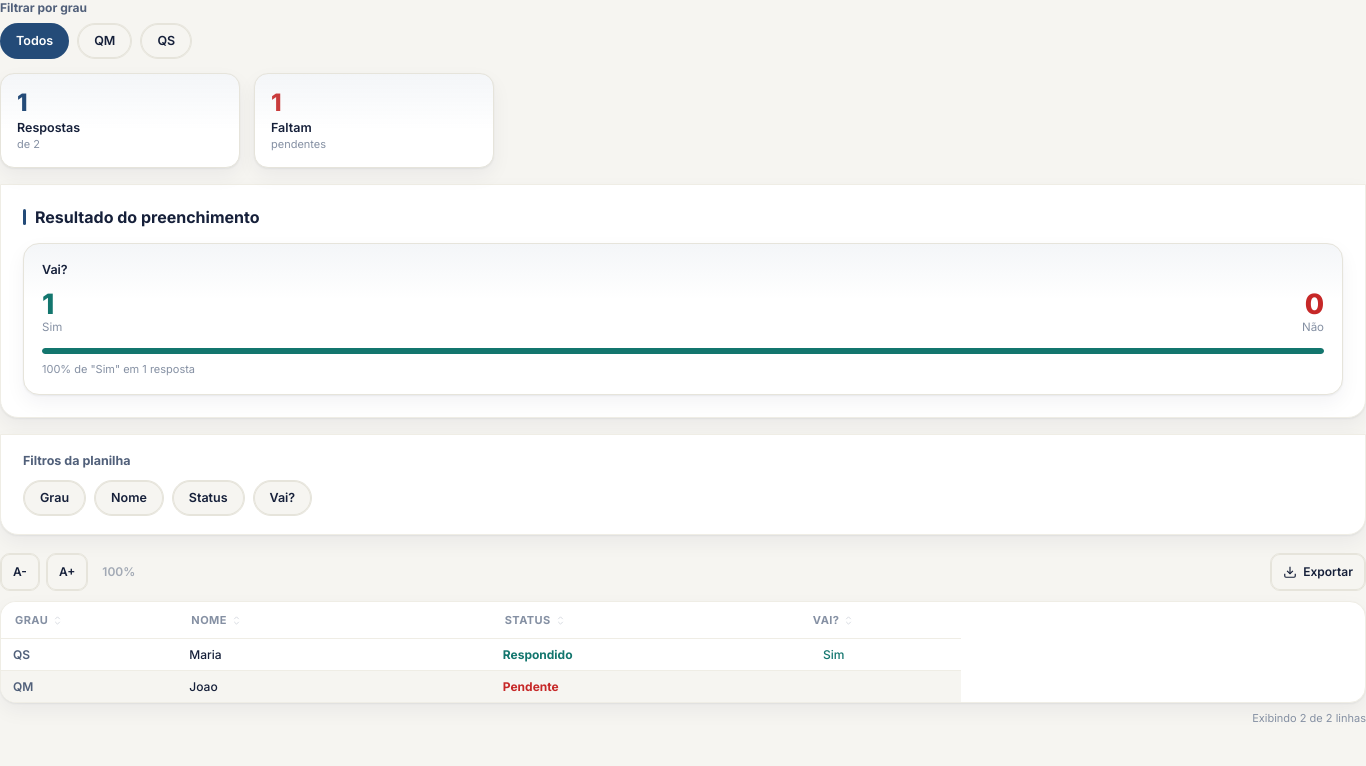
Test: ResultsScreen › filtra usando o cabecalho de filtros da planilha
Click the button "Nome" at (129, 498), box [94,480,164,516]
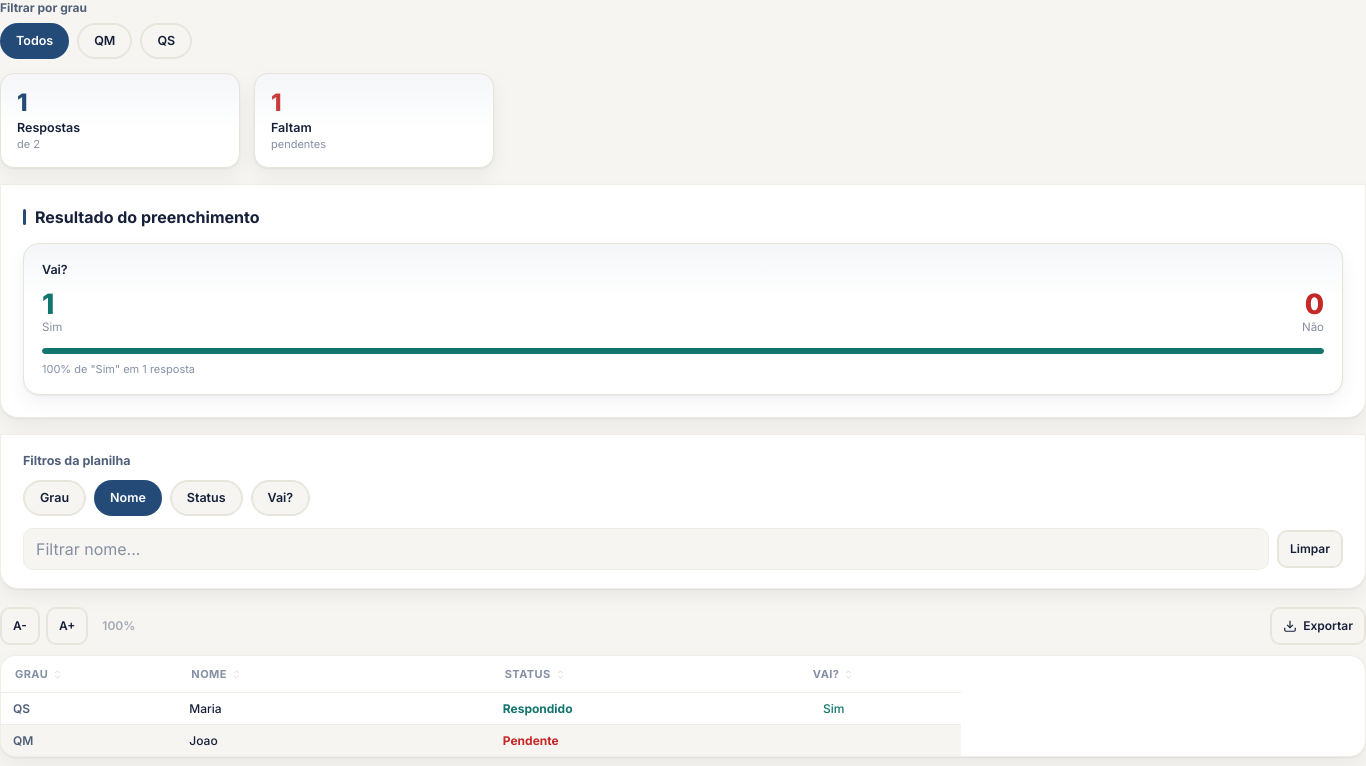
Type "Joao" into the field with placeholder "Filtrar nome..." at (646, 549), box [23,528,1269,570]
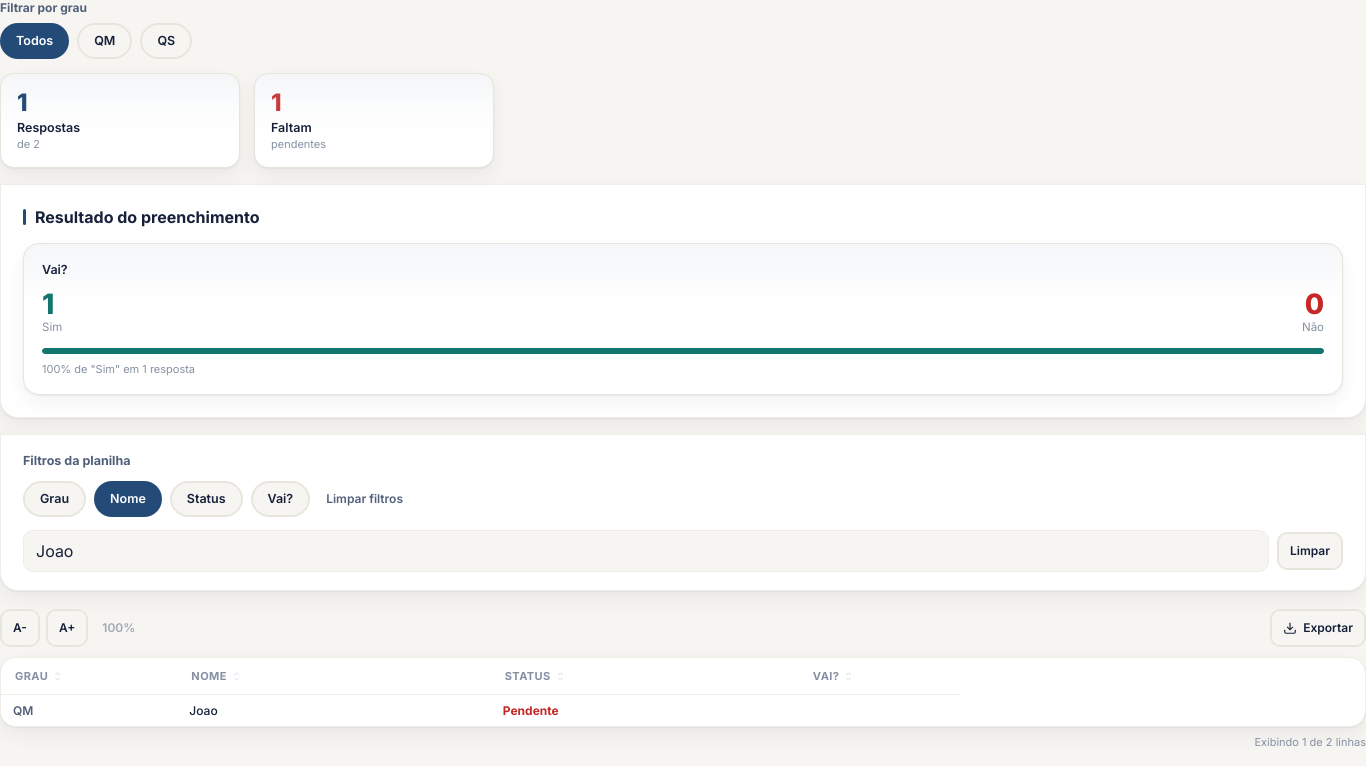
Check: the text "Joao" is shown, box [177,694,491,726]
Check: the text "Maria" is gone
